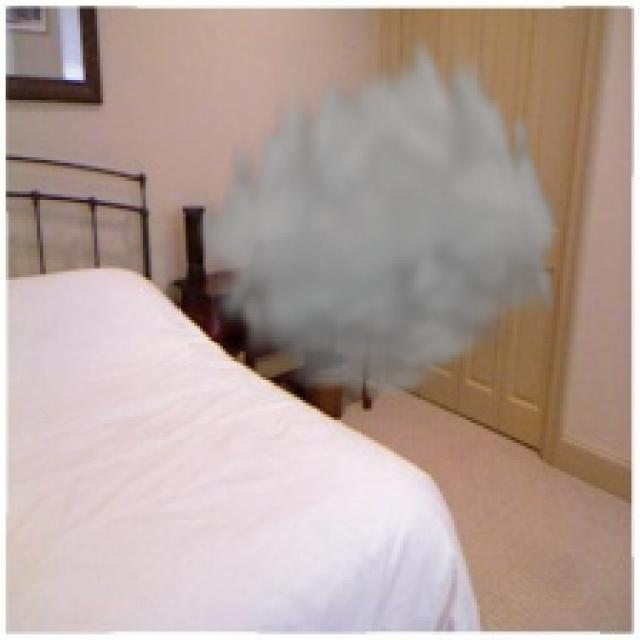Smoke: (191, 23, 563, 406)
